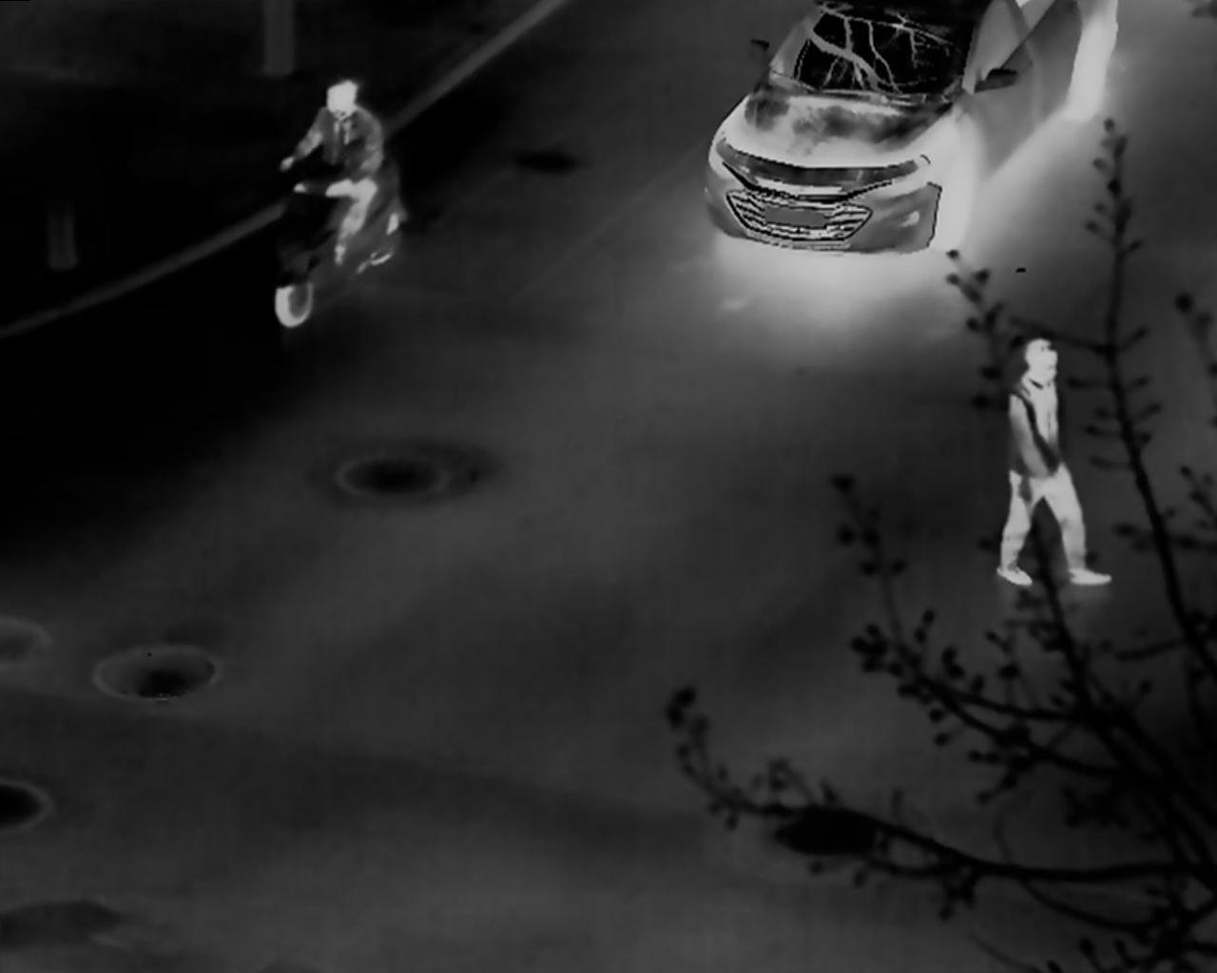person: (994, 337, 1112, 587), (280, 77, 383, 266)
